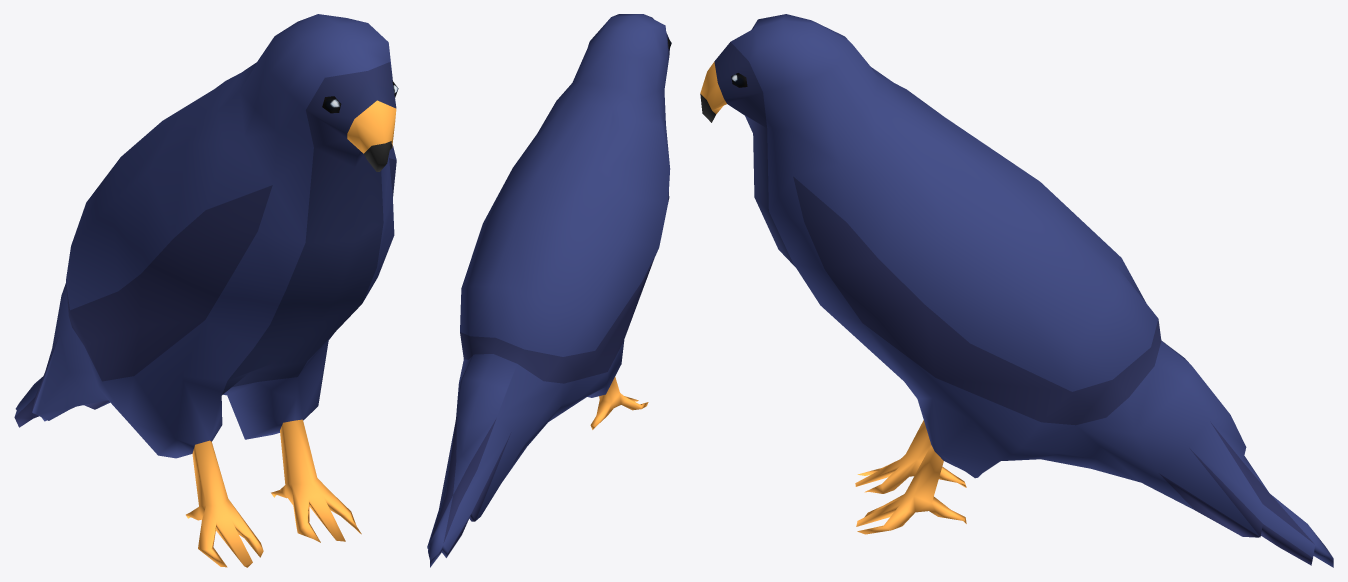
File: Falcon.glb
3 views of the same model, side by side, from view 1: azimuth 30°, elevation 25°; view 2: azimuth 150°, elevation 25°; view 3: azimuth 270°, elevation 25° (orthographic). The views are drawn at different scales.
Visible parts, largest first — view 1: Falcon; view 2: Falcon; view 3: Falcon.
Part boxes in pixels (x1=…): Falcon: x1=14, y1=14, x2=398, y2=567; Falcon: x1=427, y1=14, x2=671, y2=567; Falcon: x1=700, y1=14, x2=1333, y2=567.
Size of what is drawn, in the model's own units: 0.2565 by 0.653 by 0.6848.
Materials: 1 (1 with a texture image).
